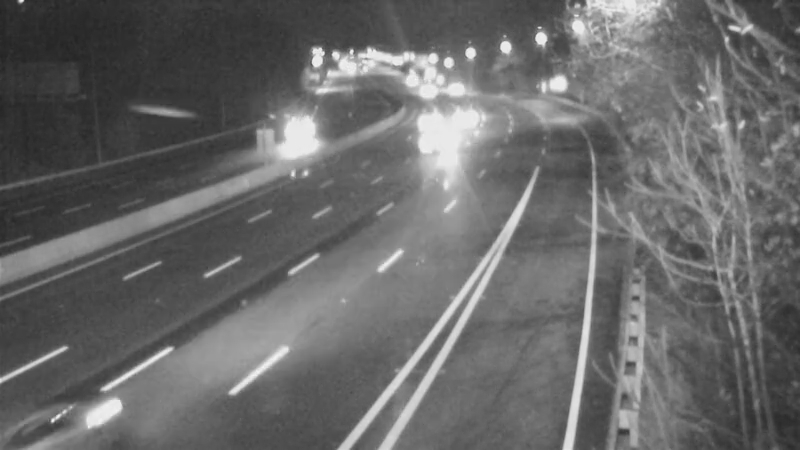vehicle: (428, 64, 478, 114), (405, 68, 455, 118), (440, 93, 490, 143), (408, 95, 458, 145), (413, 119, 463, 169), (277, 107, 327, 157)
